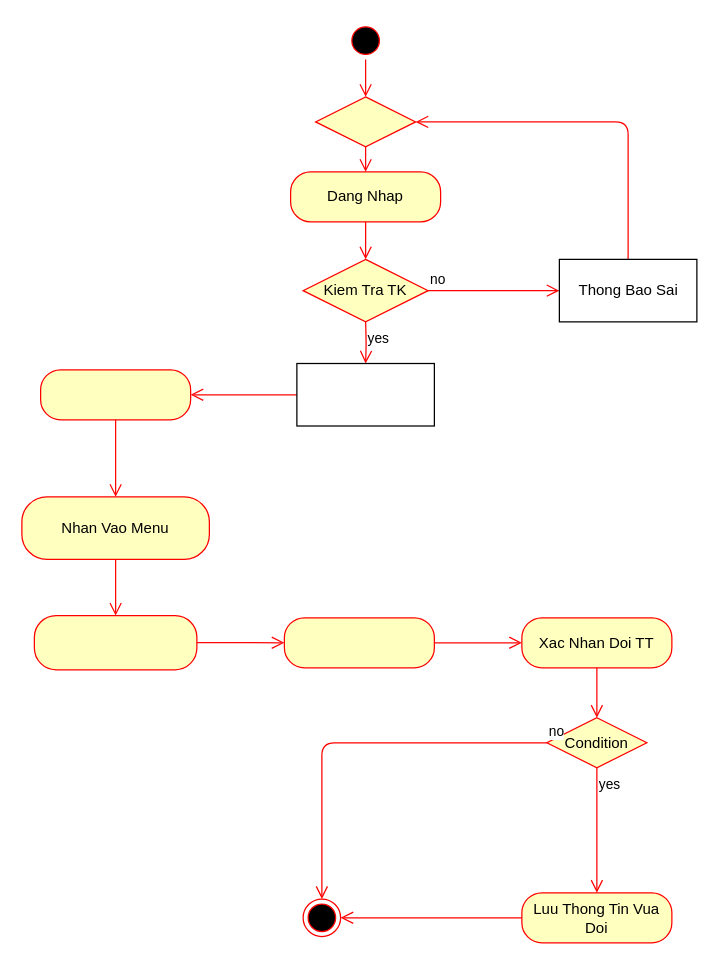
Some shapes in this 719 by 965 pixel diagram are drawn without their labels. Here are the shapes that lost their labels. From the top down, the centre of each, then its label:
At (115,394): "Chon Nhom Chat".
At (365,394): "Hien Thi Trang Chu".
At (115,642): "Chon TT Nhom Chat".
At (358,642): "Thay Thoi TT Nhom Chat".
